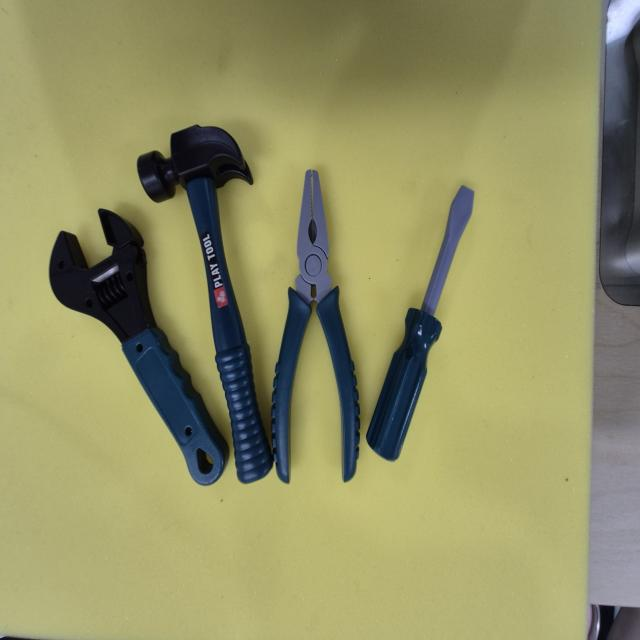hammer: (112, 109, 294, 492)
pliers: (264, 144, 372, 494)
screwdriver: (354, 149, 496, 493)
wrench: (36, 204, 244, 505)
